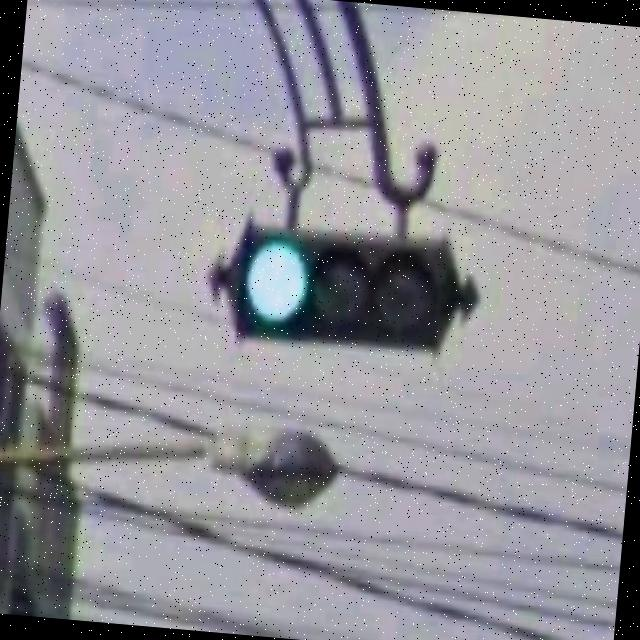Zielone swiatlo: (223, 219, 459, 346)
